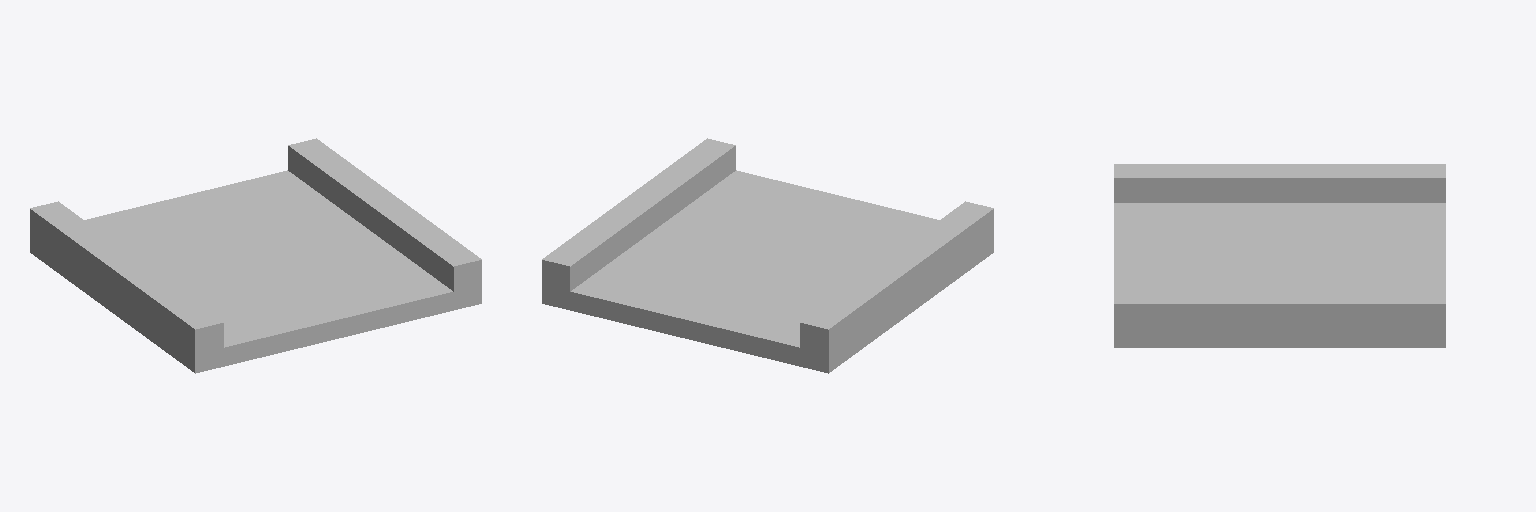
File: Straight_01.obj
3 renders of one model, left to right at view 1: azimuth 30°, elevation 25°; view 2: azimuth 150°, elevation 25°; view 3: azimuth 270°, elevation 25°, orthographic.
Visible parts, largest first — view 1: Mesh1 Straight Model; view 2: Mesh1 Straight Model; view 3: Mesh1 Straight Model.
Part boxes in pixels (left/top/right/bottom): Mesh1 Straight Model: left=30, top=138, right=481, bottom=373; Mesh1 Straight Model: left=542, top=138, right=993, bottom=373; Mesh1 Straight Model: left=1114, top=164, right=1445, bottom=347.
Bounding box in the file's own units: 3 × 0.44 × 3.